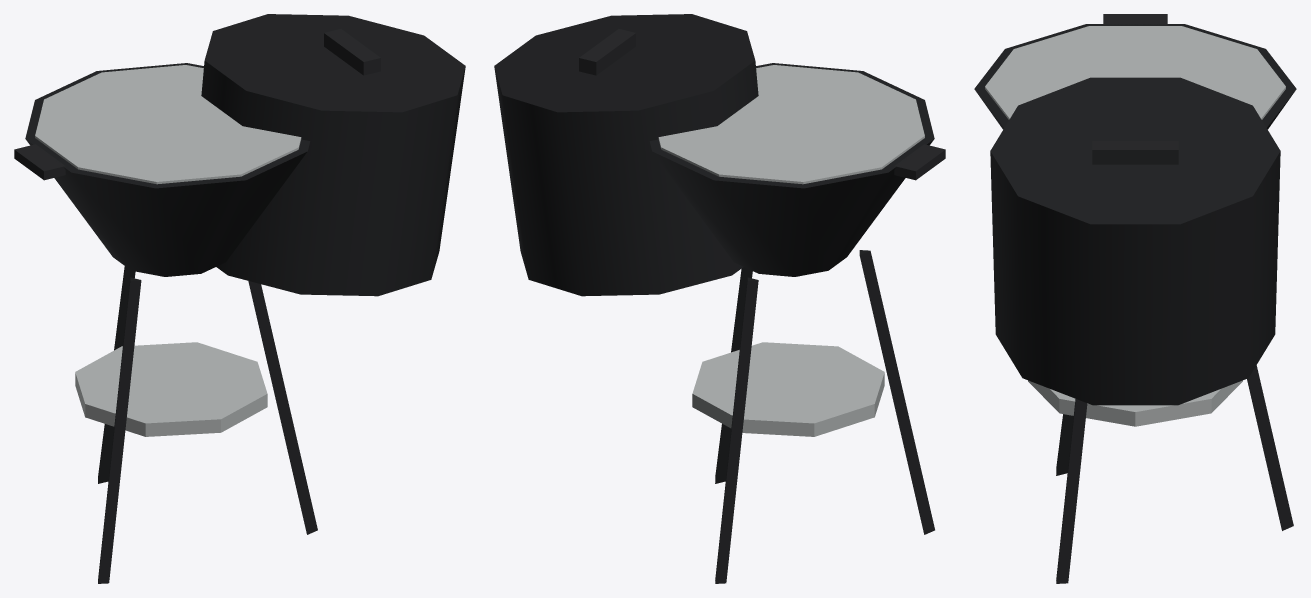
File: bbq_grill.glb
The picture shows the model from 3 angles, left to right: view 1: azimuth 30°, elevation 25°; view 2: azimuth 150°, elevation 25°; view 3: azimuth 270°, elevation 25°; orthographic projection. The views are drawn at different scales.
Parts seen in each view (by area): view 1: bbq_grill; view 2: bbq_grill; view 3: bbq_grill.
Boxes of the visible parts, <box> form: bbq_grill: <box>14,14,465,583</box>; bbq_grill: <box>494,14,945,583</box>; bbq_grill: <box>974,14,1296,583</box>.
Bounding box in the file's own units: 0.9648 × 0.9834 × 0.6.
Materials: 1 (1 with a texture image).
